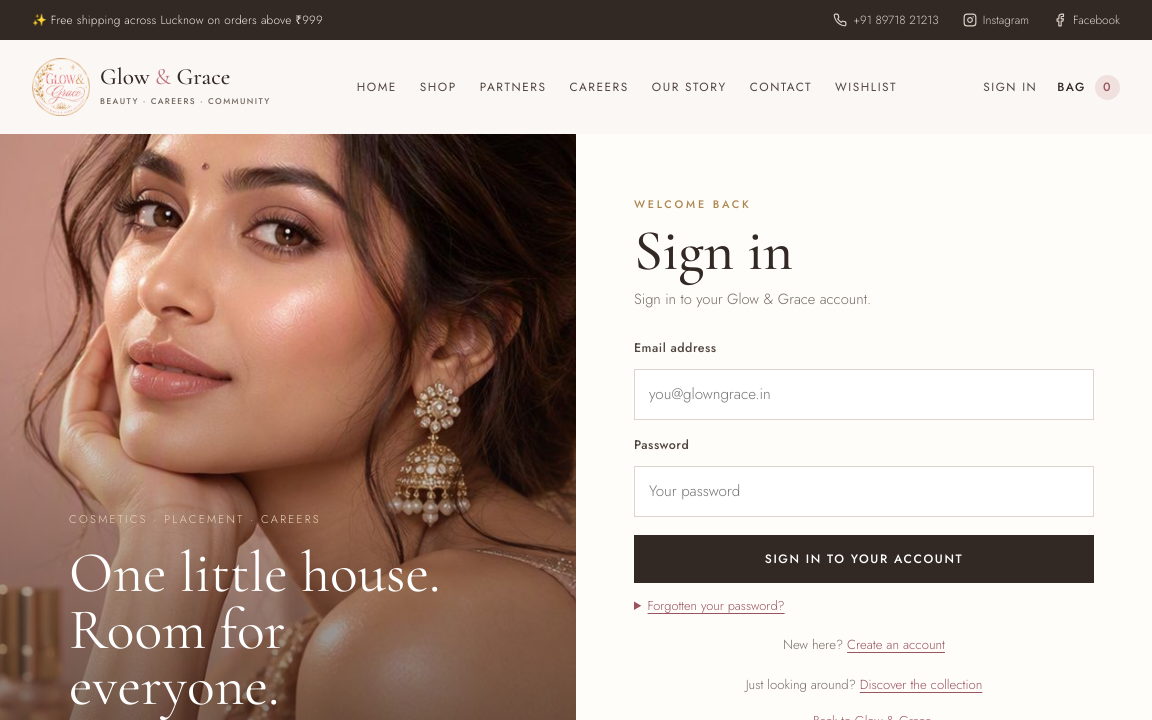
Test: console sign-in and session lifetime › updates the storefront header for somebody signing in on the login page
Check: the link "Sign in" is shown, box [983,77,1037,97]
In the field labelled "Email address": (864, 394) [634,369,1094,420], type "ritika@example.com"
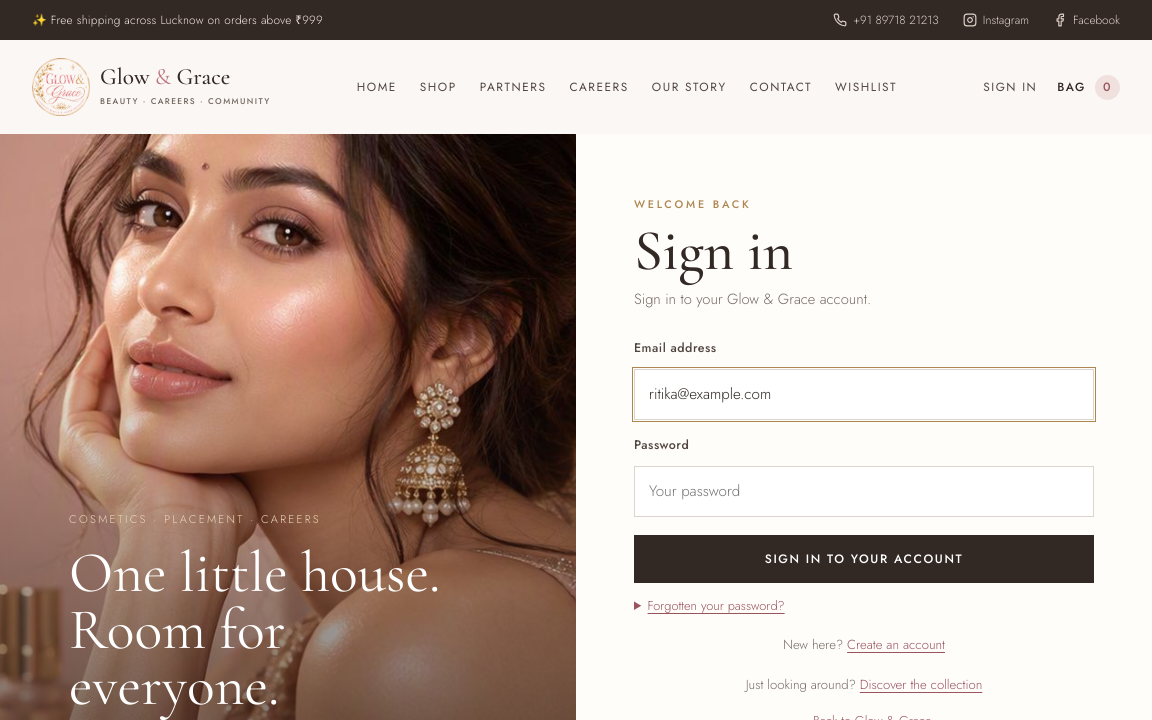
In the password field labelled "Password": (864, 492) [634,466,1094,517], type "a-password-they-chose"
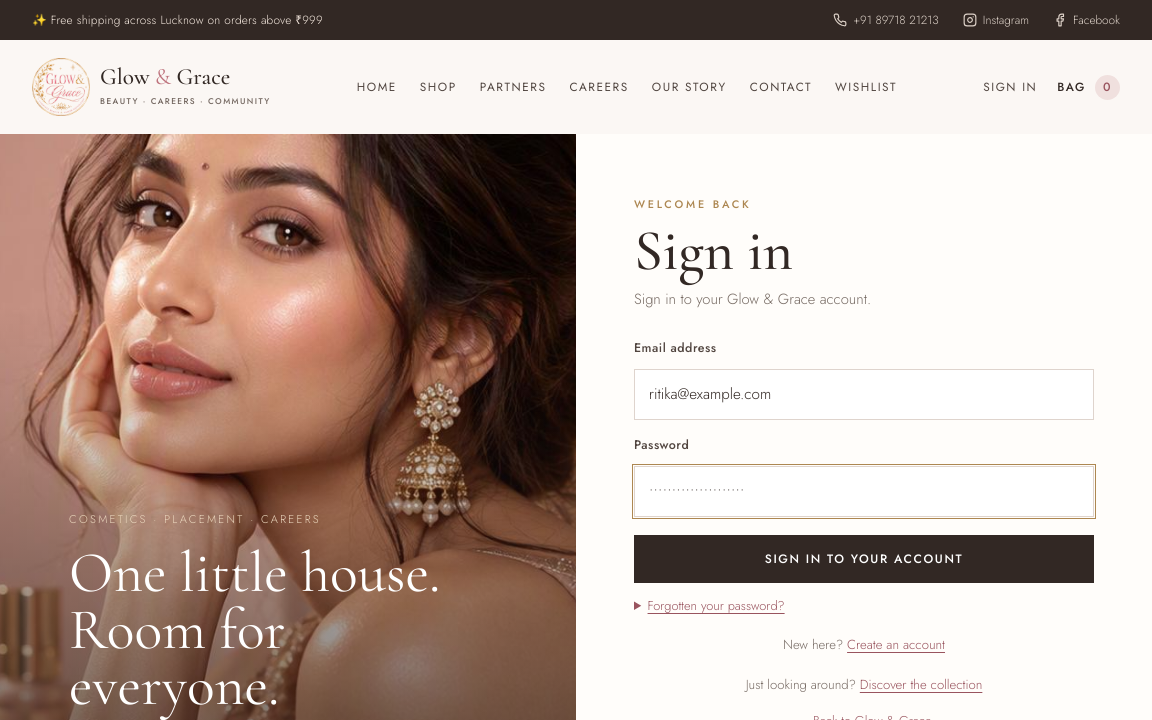
Click the button "Sign in to your account": (864, 560) [634,536,1094,584]
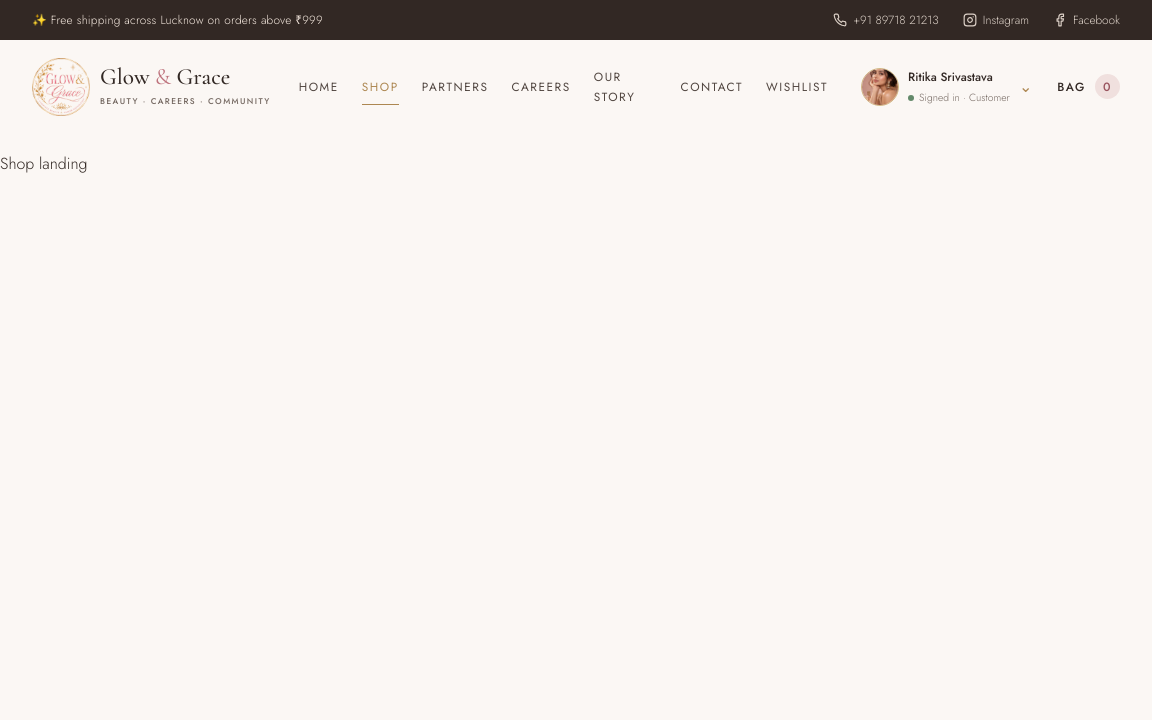
Check: the text "Shop landing" is shown, box [0,152,88,175]
Check: the link "Sign in" is gone
Check: the button with aria-label "Profile menu for Ritika Srivastava" is shown, box [856,62,1037,112]
